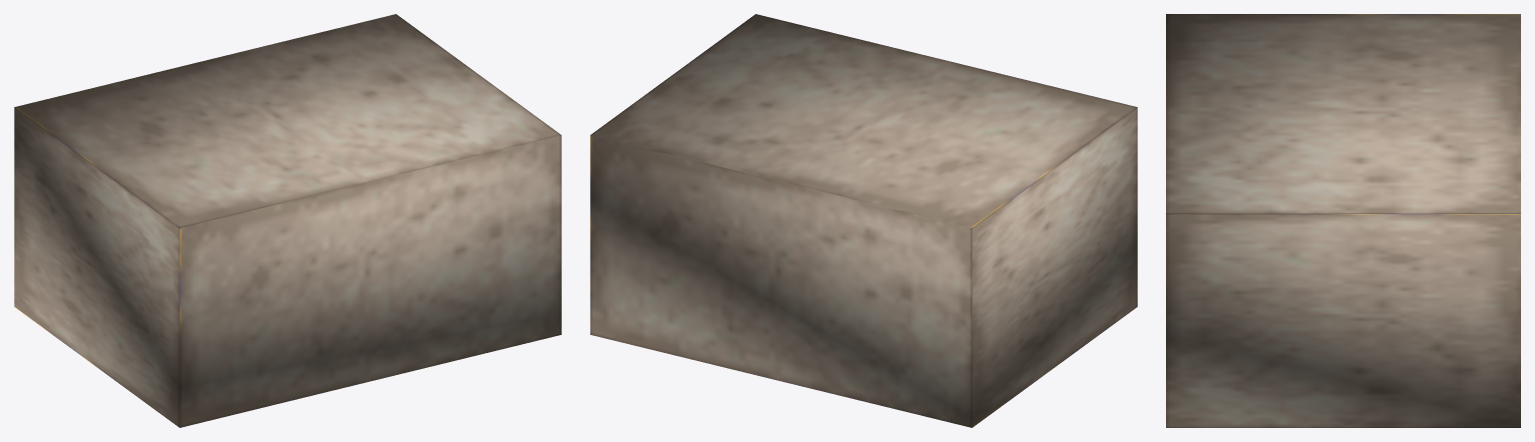
3 views of the same model, side by side, from view 1: azimuth 30°, elevation 25°; view 2: azimuth 150°, elevation 25°; view 3: azimuth 270°, elevation 25° (orthographic). The views are drawn at different scales.
Parts seen in each view (by area): view 1: T1L8M004_16; view 2: T1L8M004_16; view 3: T1L8M004_16.
Boxes of the visible parts, x1=… form: T1L8M004_16: x1=14, y1=14, x2=561, y2=427; T1L8M004_16: x1=590, y1=14, x2=1137, y2=427; T1L8M004_16: x1=1166, y1=14, x2=1520, y2=427.
Bounding box in the file's own units: 1.33 × 0.665 × 0.999.
